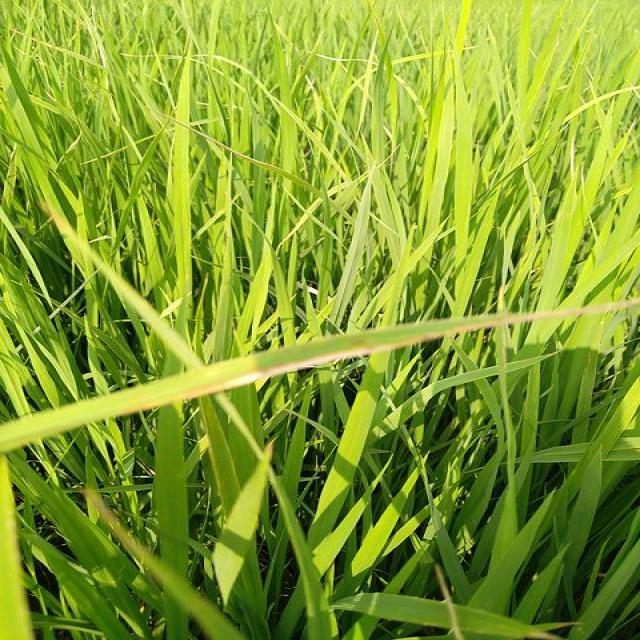Leaf Streak: (0, 299, 639, 457)
